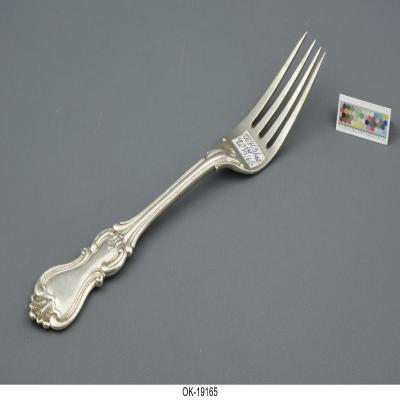dpi: (29, 32, 326, 333)
